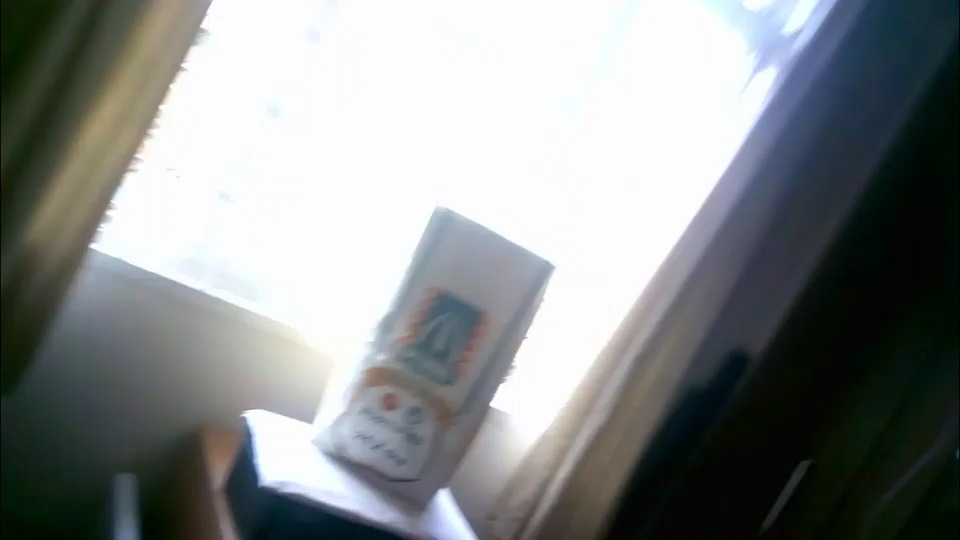maize_flour_green_label: (305, 203, 549, 508)
